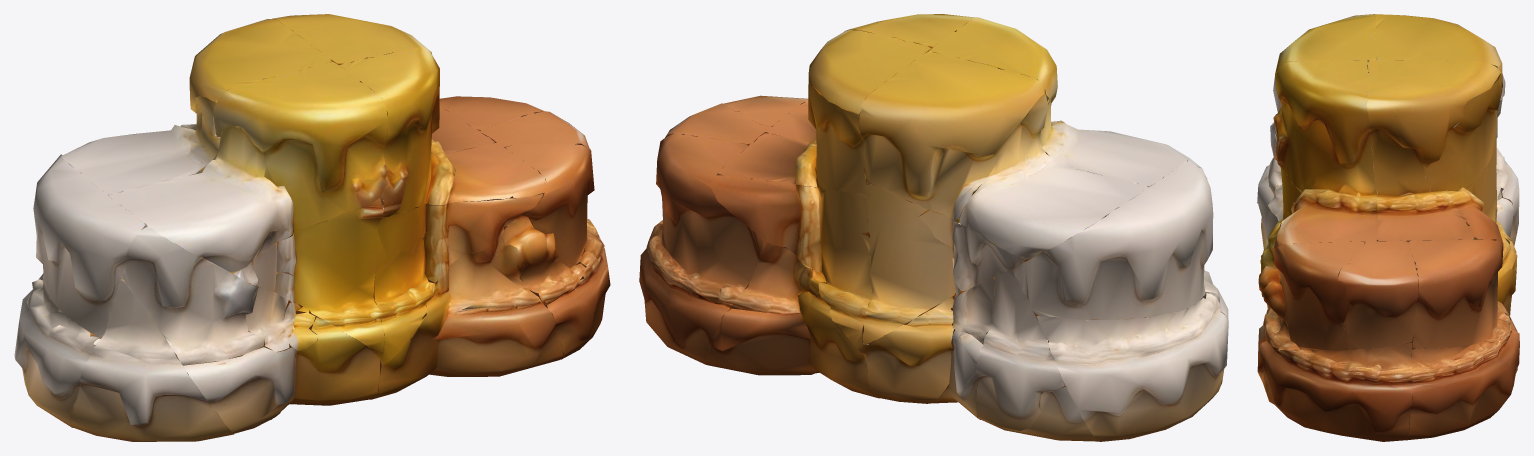
File: arcade-podium-tiered-cake.glb
The picture shows the model from 3 angles, left to right: view 1: azimuth 30°, elevation 25°; view 2: azimuth 150°, elevation 25°; view 3: azimuth 270°, elevation 25°; orthographic projection. The views are drawn at different scales.
Parts seen in each view (by area): view 1: tripo_node_96738b8f-78e4-435e-8ce2-a8fd9a470c5f; view 2: tripo_node_96738b8f-78e4-435e-8ce2-a8fd9a470c5f; view 3: tripo_node_96738b8f-78e4-435e-8ce2-a8fd9a470c5f.
Boxes of the visible parts, left/top/right/bottom form: tripo_node_96738b8f-78e4-435e-8ce2-a8fd9a470c5f: left=14, top=14, right=610, bottom=441; tripo_node_96738b8f-78e4-435e-8ce2-a8fd9a470c5f: left=639, top=14, right=1228, bottom=441; tripo_node_96738b8f-78e4-435e-8ce2-a8fd9a470c5f: left=1257, top=14, right=1519, bottom=441.
Bounding box in the file's own units: 1 × 0.5371 × 0.4544.
Materials: 1 (1 with a texture image).
